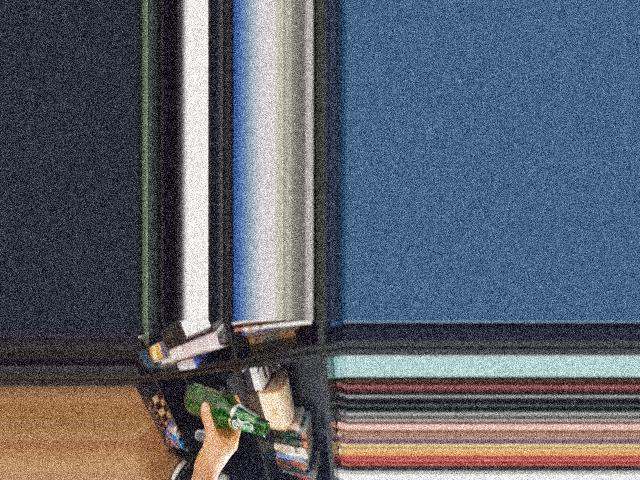beer: (183, 381, 269, 436)
